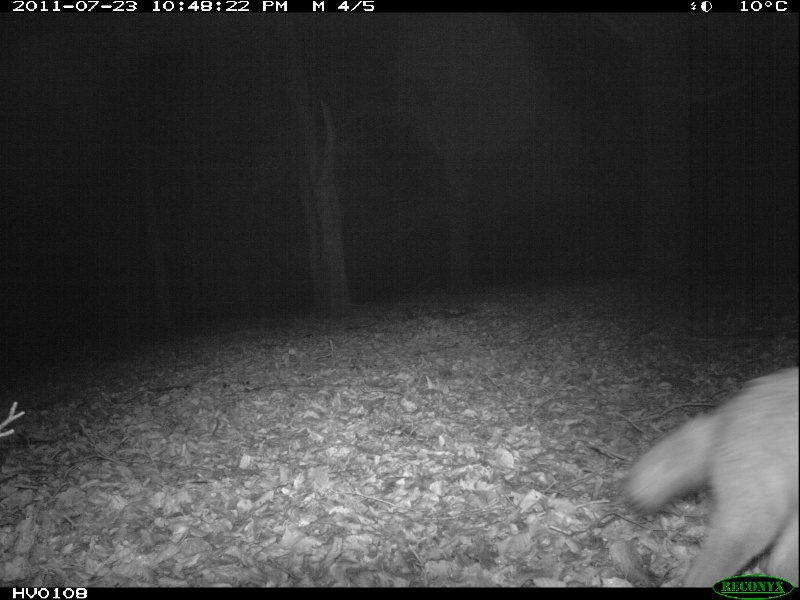fox: (629, 362, 799, 571)
